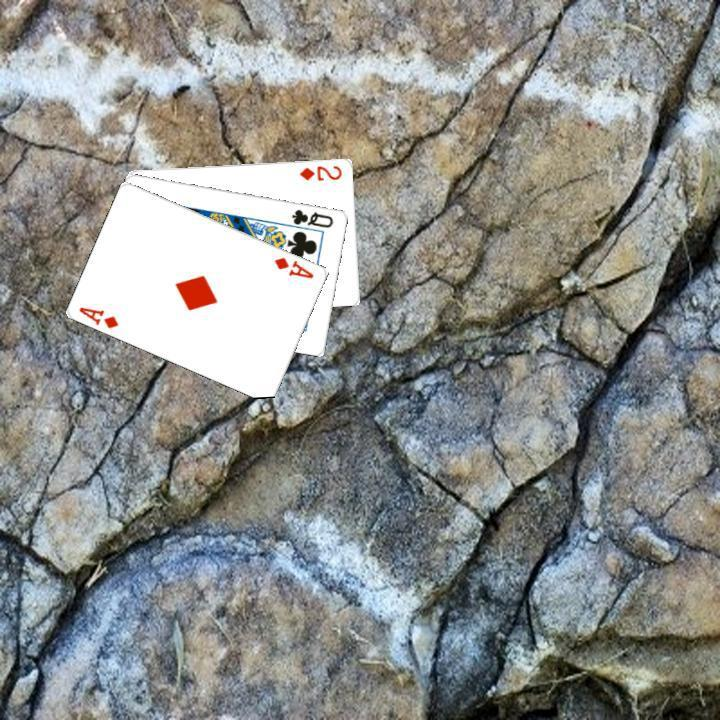2: (295, 161, 344, 182)
A: (270, 252, 316, 281), (75, 302, 121, 330)
Q: (287, 204, 335, 230)
